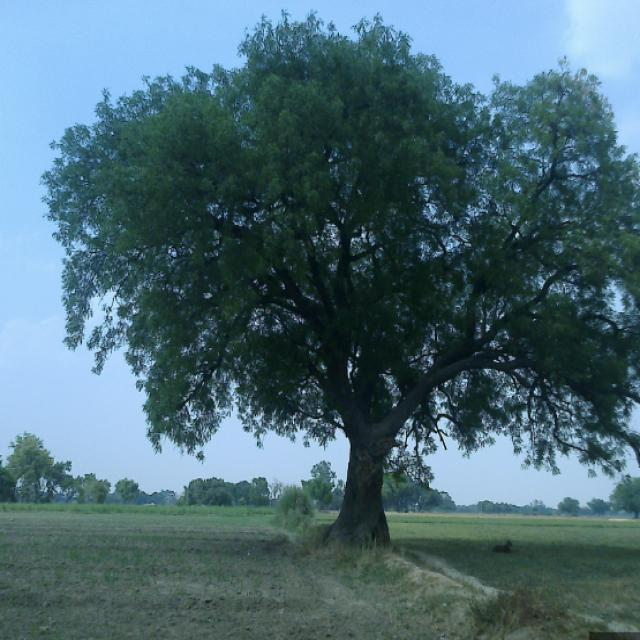Neem-Tree: (132, 74, 640, 415)
